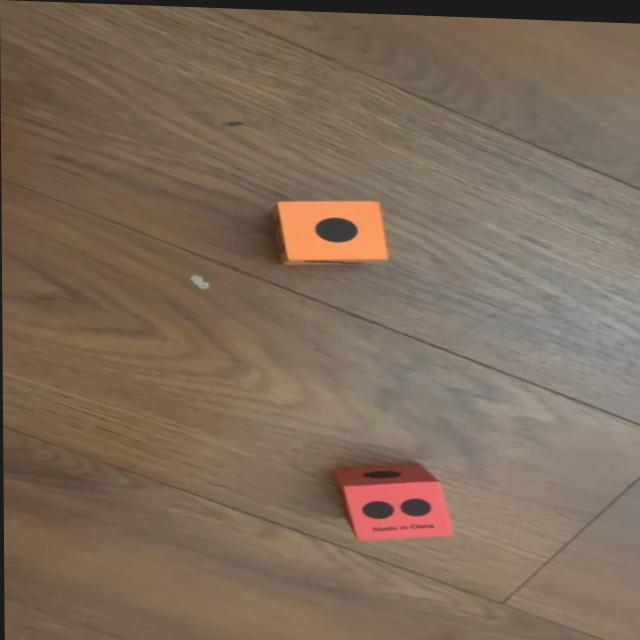red_block: (335, 460, 451, 540)
